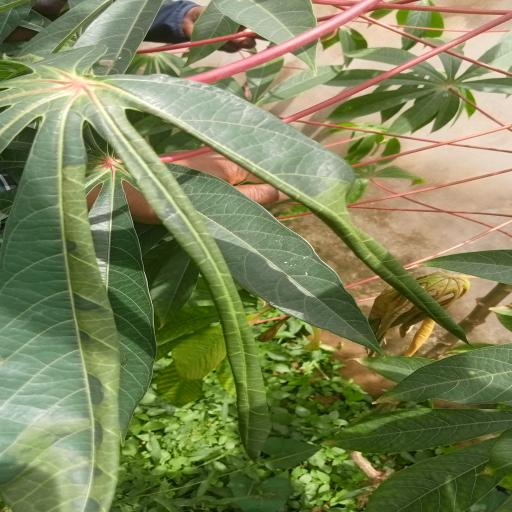Cassava_Bacterial_Disease: (5, 48, 473, 512)
